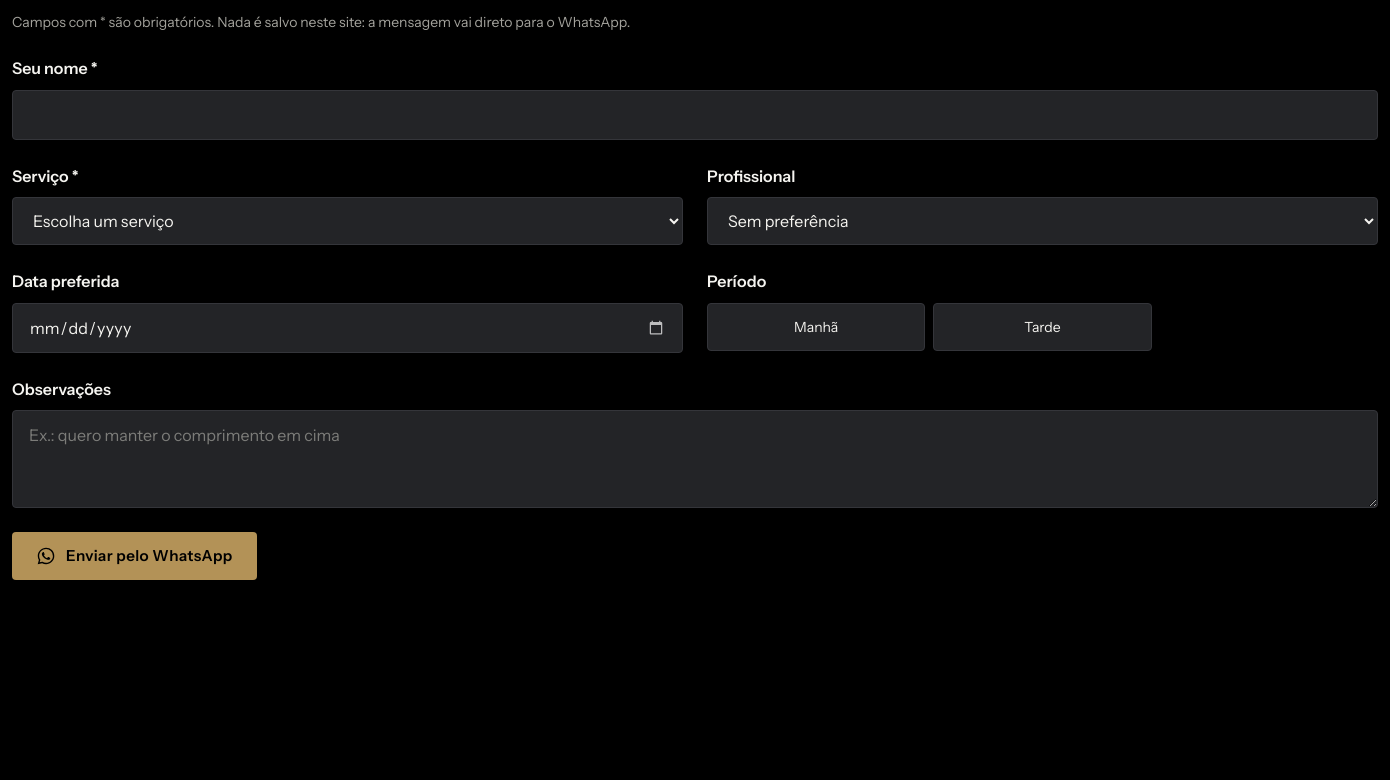
BookingForm › mostra os erros e não abre o WhatsApp sem nome e serviço
This screenshot has width=1390, height=780.
Click the button "Enviar pelo WhatsApp" at (134, 556), box 12,532 -> 256,580
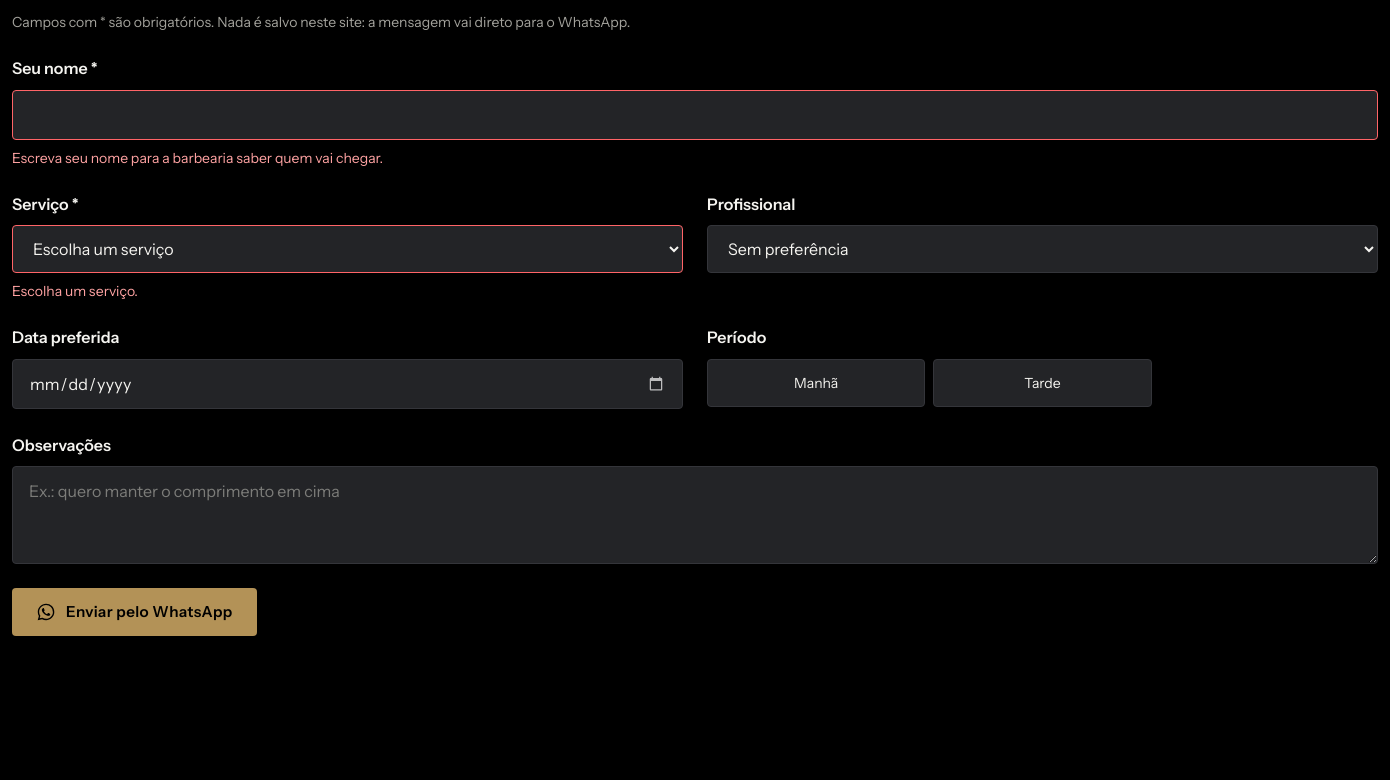
Now the text "Escreva seu nome para a barbearia saber quem vai chegar." is shown, box 12,149 -> 383,167
Now the text "Escolha um serviço." is shown, box 12,282 -> 138,300
